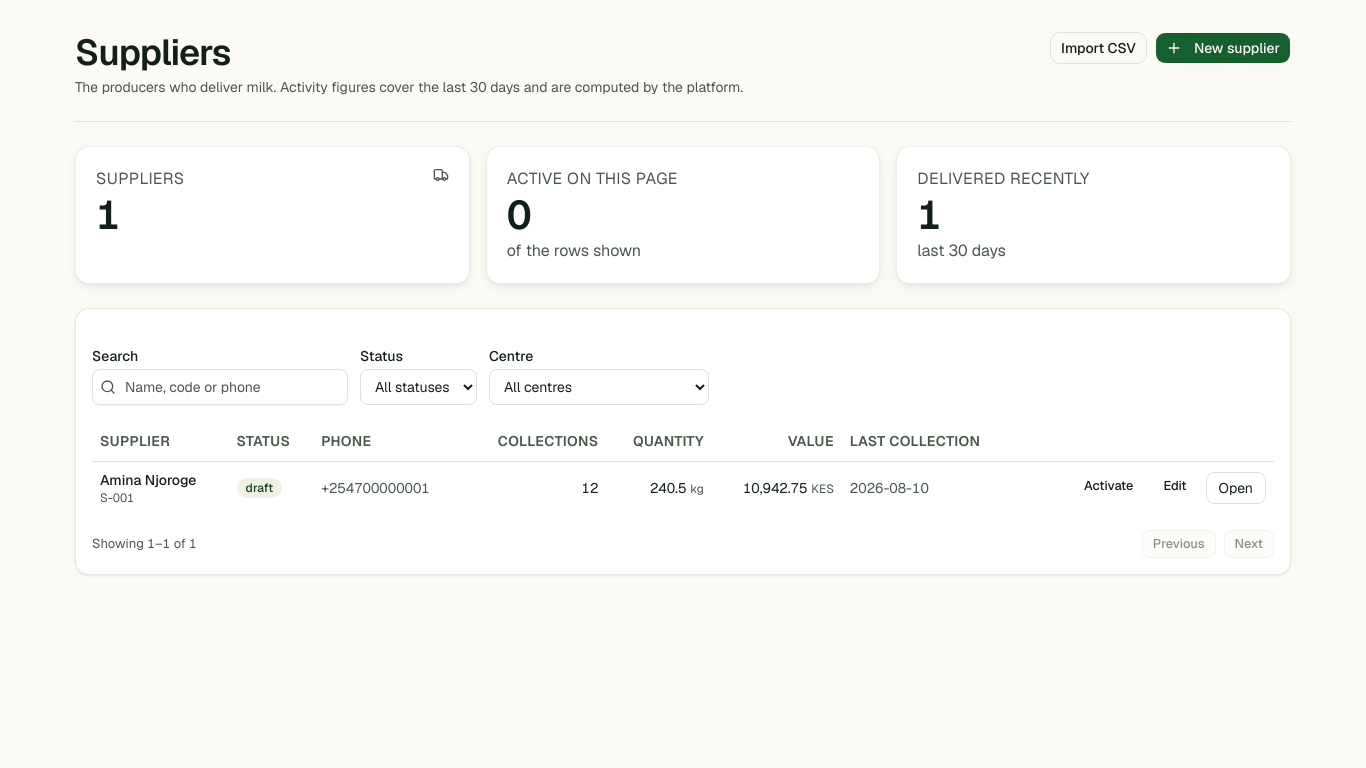
Test: suppliers list › repeats the platform's refusal when activation is not allowed
Expected: the link "Amina Njoroge" is shown, [100, 471, 196, 489]
Click the button "Activate". click: [1109, 486]
box: [1073, 472, 1144, 500]
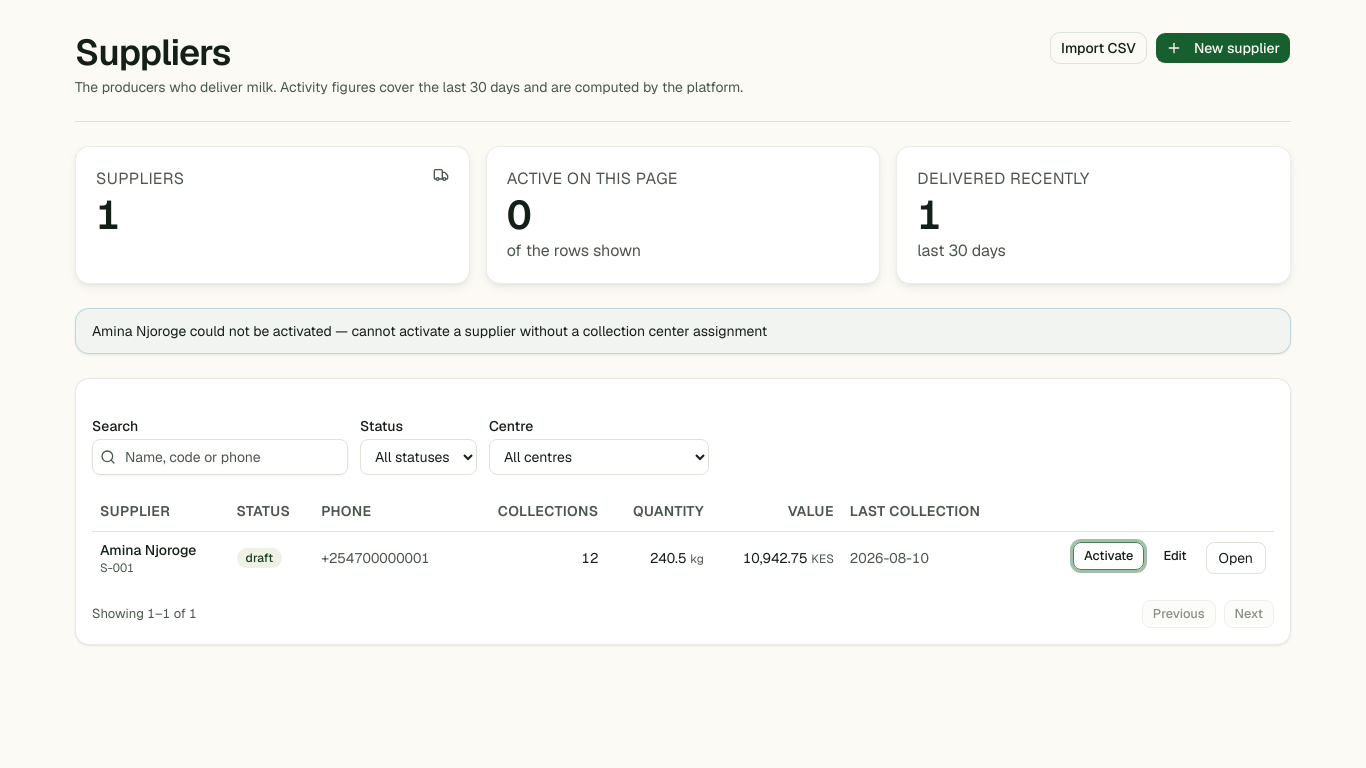
Result: the text "without a collection center assignment" is shown at [92, 322, 767, 340]
